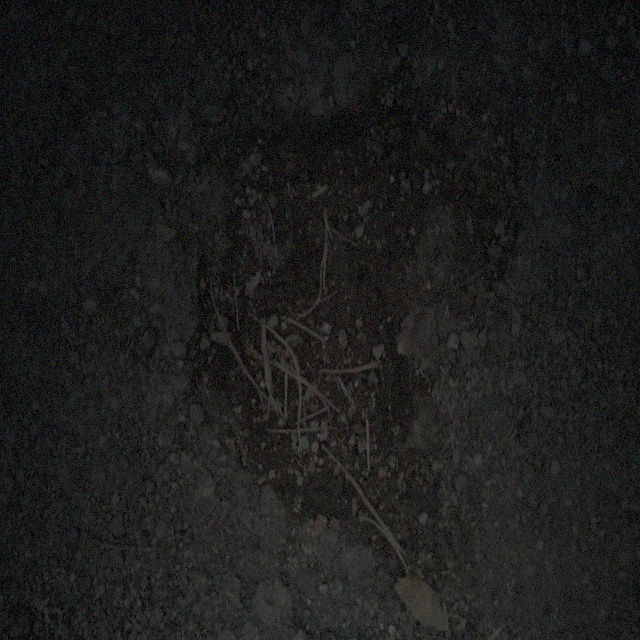pothole: (176, 81, 514, 590)
